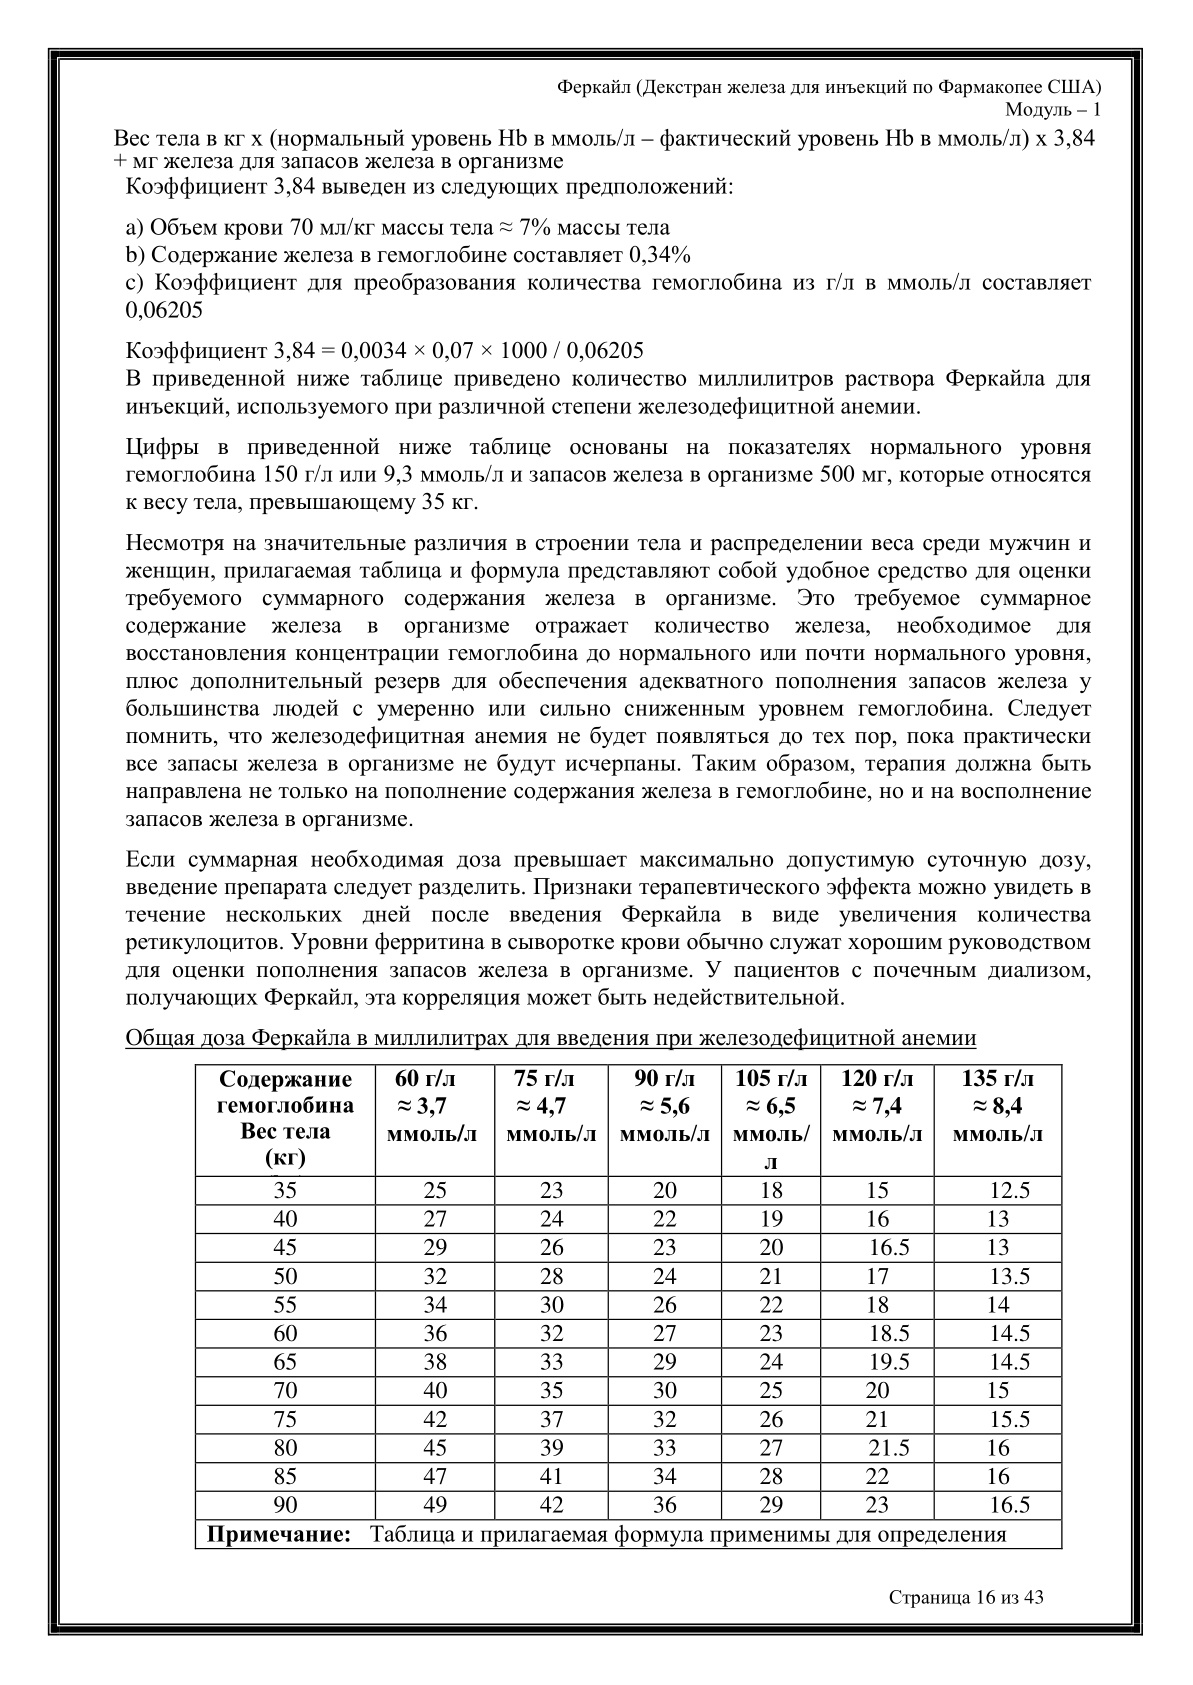merged_cells: (194, 1064, 1064, 1549)
